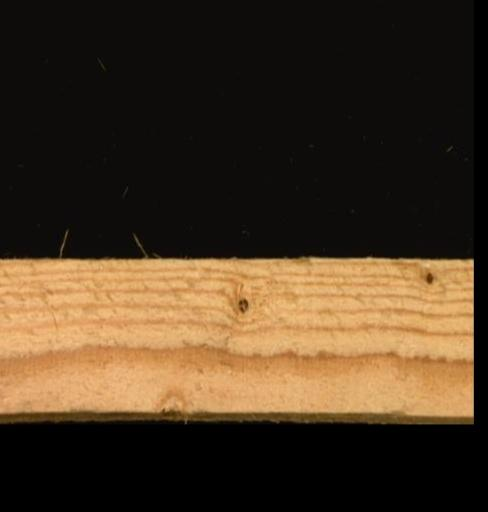edge_knot: (153, 386, 186, 419)
small_knot: (234, 296, 247, 313), (422, 270, 432, 284)
